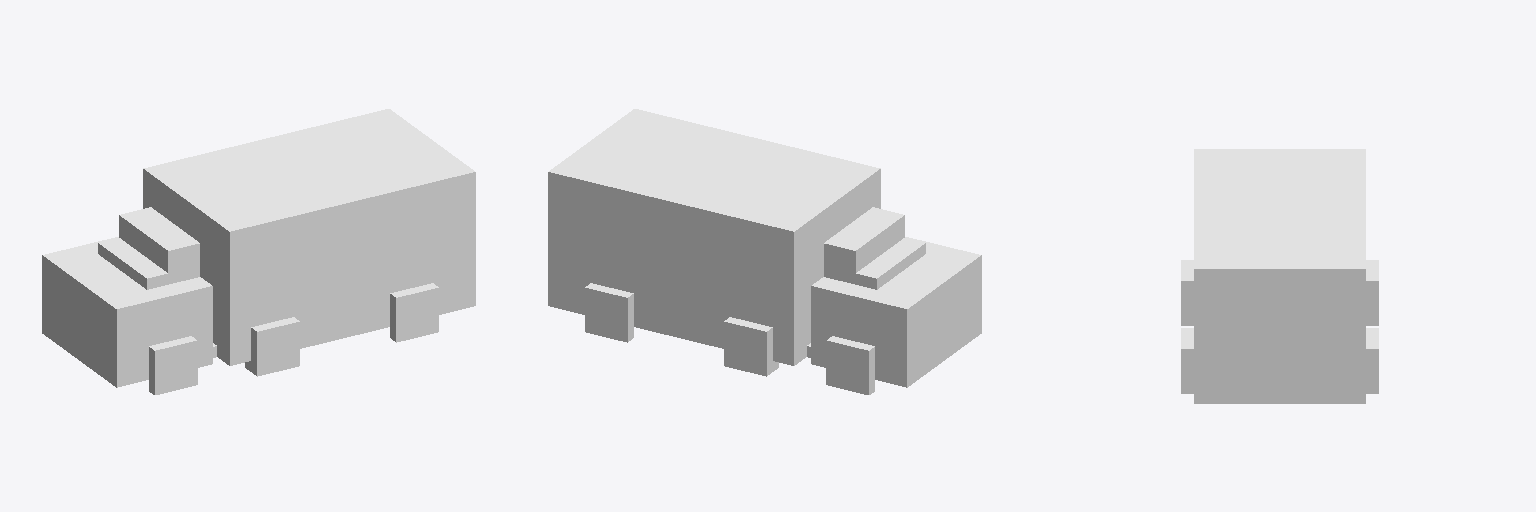
Rendered from xetai.obj.
The picture shows the model from 3 angles: view 1: azimuth 30°, elevation 25°; view 2: azimuth 150°, elevation 25°; view 3: azimuth 270°, elevation 25°; orthographic projection.
Parts seen in each view (by area): view 1: object 1; view 2: object 1; view 3: object 1.
Part boxes in pixels (x1,y1,x2,y2): object 1: (42,109,475,394); object 1: (548,109,981,394); object 1: (1181,149,1378,403).
Size of the model in its own units: 3.3 by 1.3 by 1.6.